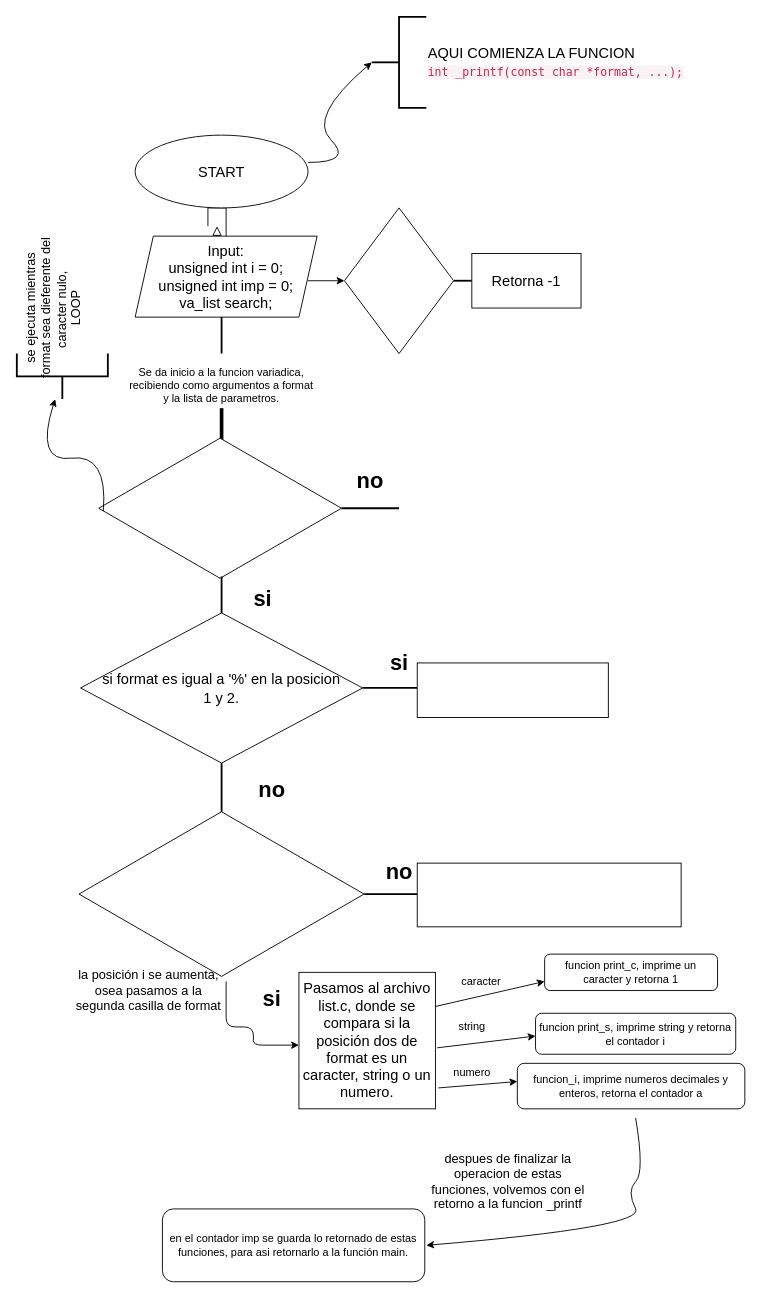
Some shapes in this 761 by 1298 pixel diagram are drawn without their labels. Here are the shapes that lost their labels. From the top down, the box of each, then its label:
(344, 207, 454, 354): si no es format o si format en la posicion 0 = '\0'
(98, 435, 341, 581): si format en la posición 0, es diferente del caracter nulo
(416, 662, 608, 718): imprime un '%'
(78, 808, 364, 980): Si format en la posicion 1 es igual '%'
(416, 862, 681, 927): imprime a format en la posicion i.
